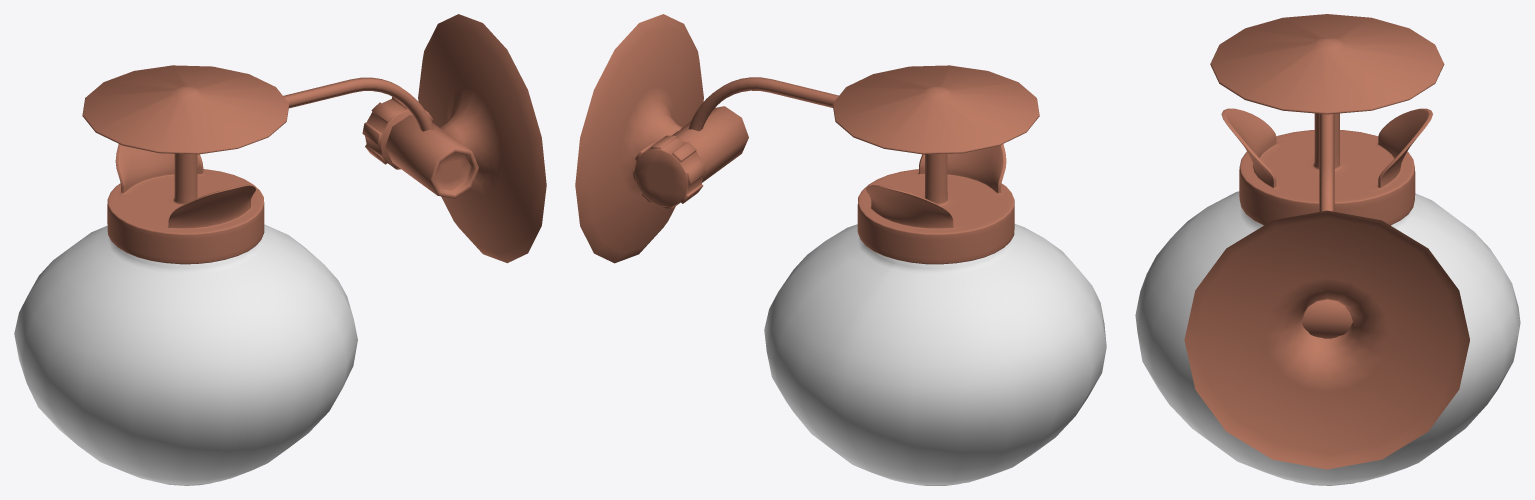
File: lampeMurale.fbx
3 views of the same model, side by side, from view 1: azimuth 30°, elevation 25°; view 2: azimuth 150°, elevation 25°; view 3: azimuth 270°, elevation 25° (orthographic). The views are drawn at different scales.
Parts seen in each view (by area): view 1: Plane.003; view 2: Plane.003; view 3: Plane.003.
Part boxes in pixels (x1,y1,x2,y2): Plane.003: (14,14,546,485); Plane.003: (575,14,1106,485); Plane.003: (1135,14,1520,485).
Size of the model in its own units: 128 by 103 by 85.57.
